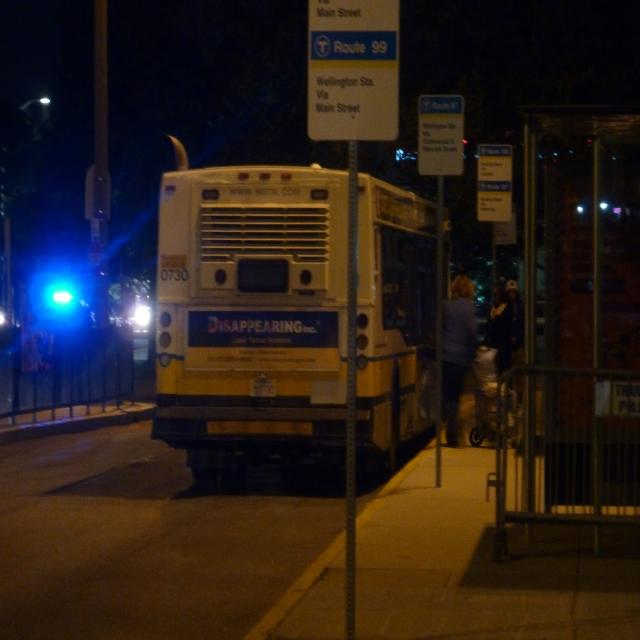Bus: (127, 130, 448, 464)
People: (425, 259, 489, 447), (494, 266, 549, 439)
